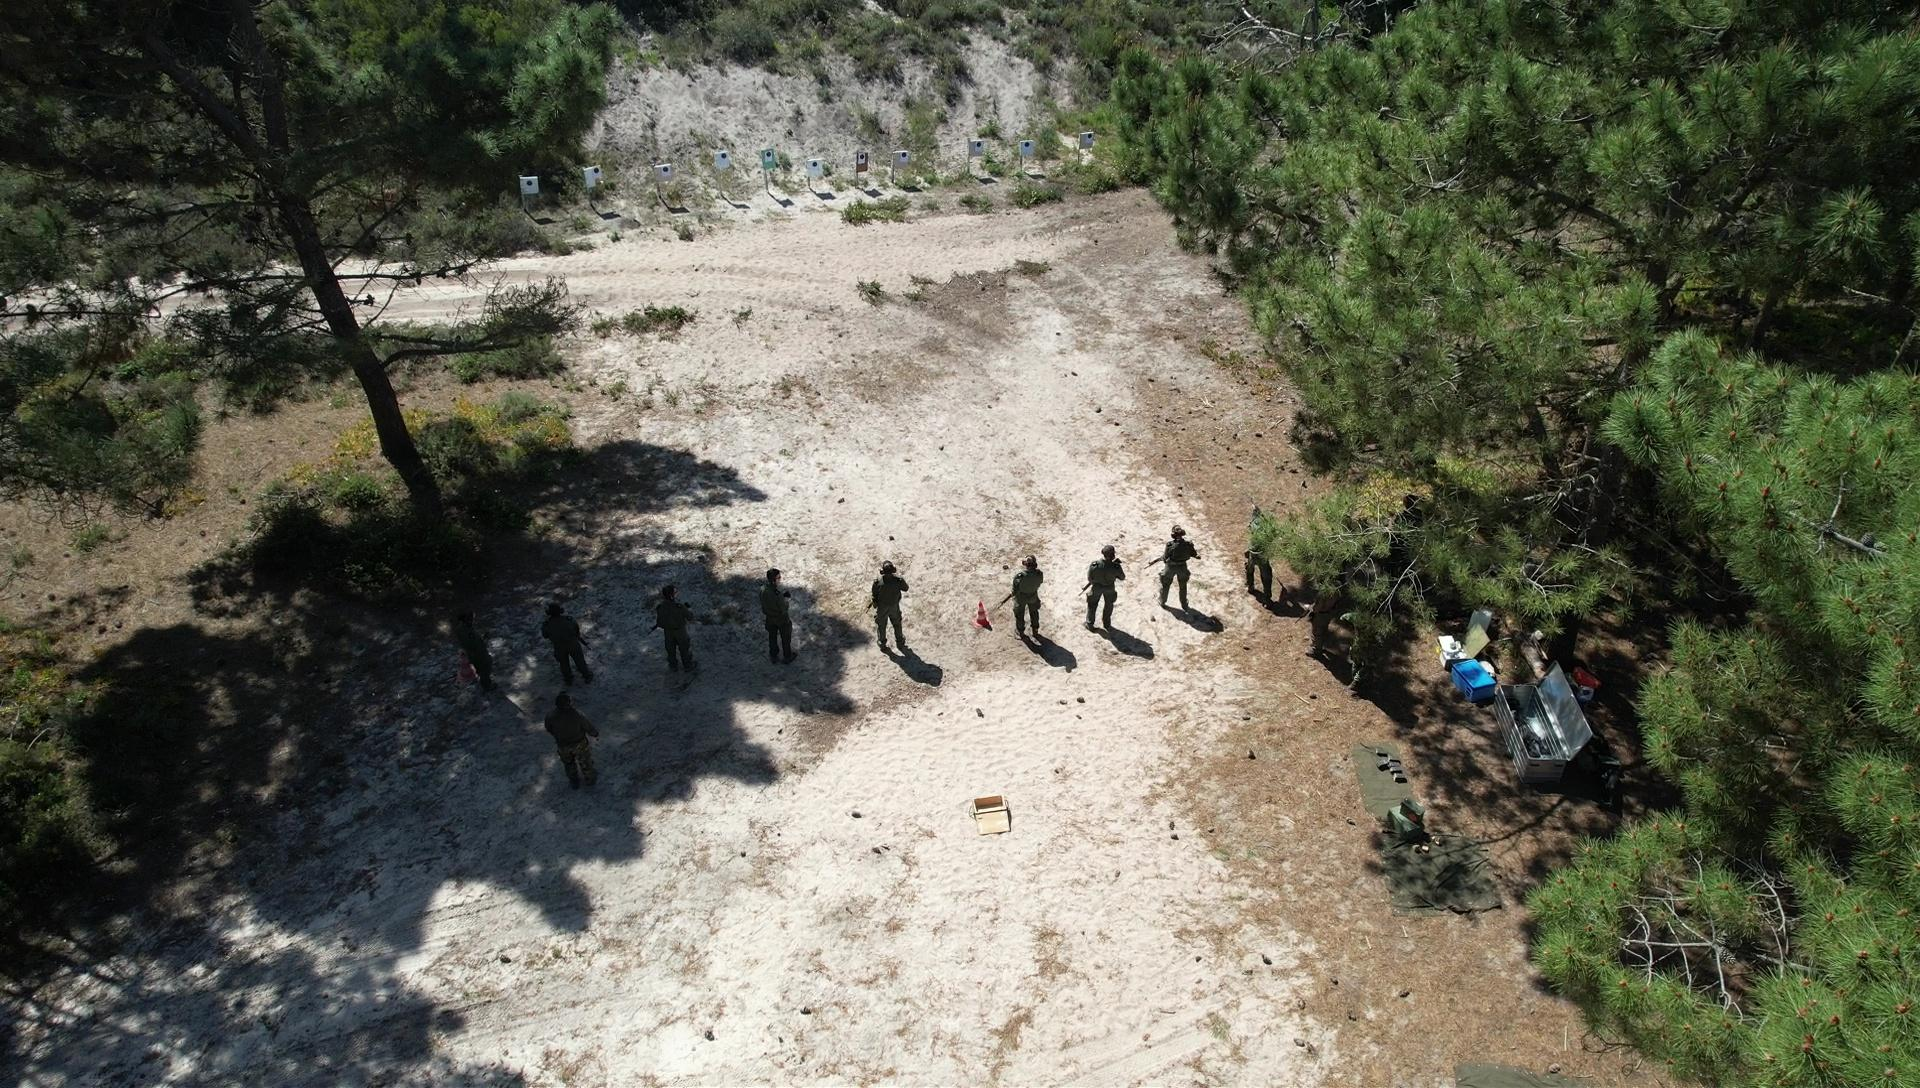Soldier: (533, 688, 609, 798), (749, 557, 807, 680), (641, 578, 699, 683), (865, 547, 919, 653), (440, 597, 498, 695), (998, 545, 1046, 644), (1076, 535, 1121, 640), (1150, 518, 1195, 622), (537, 601, 589, 690)
